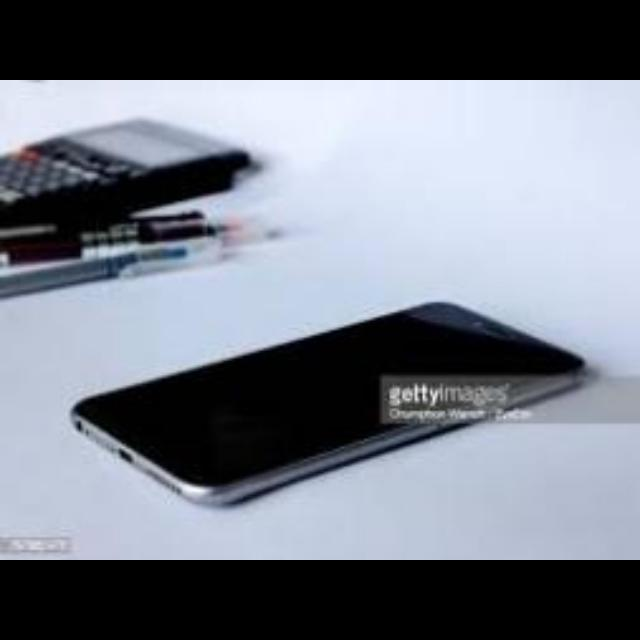phone: (70, 286, 604, 510)
